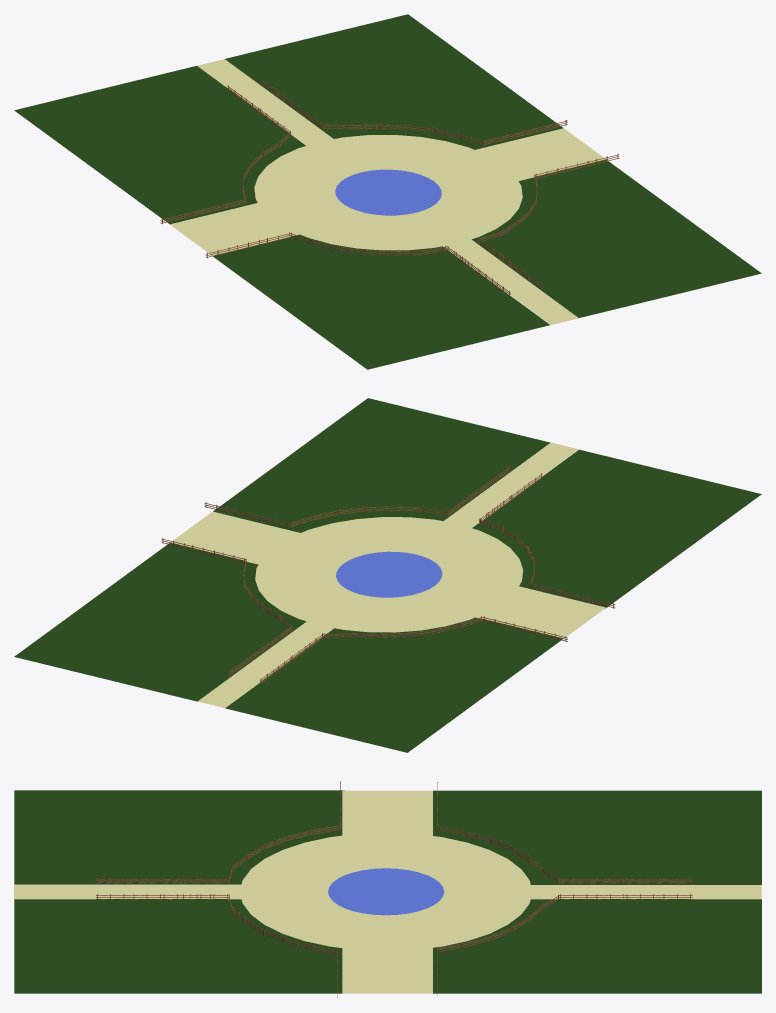
Rendered from park_terrain_1.fbx.
3 views of the same model, one above another, from view 1: azimuth 30°, elevation 25°; view 2: azimuth 150°, elevation 25°; view 3: azimuth 270°, elevation 25° (orthographic). The views are drawn at different scales.
Parts seen in each view (by area): view 1: Plano.010, Plano.011, Plano.009, Plano.008, Círculo.001, Círculo.003, Plano.006, Plano.007, Plano.003, Plano.005; view 2: Plano.010, Plano.011, Plano.008, Plano.009, Círculo.001, Círculo.003, Plano.006, Plano.007, Plano.003, Plano.005; view 3: Plano.010, Plano.011, Plano.008, Plano.009, Círculo.001, Círculo.003, Plano.006, Plano.007, Plano.003, Plano.005.
Boxes of the visible parts, <box> form: Plano.010: <box>225,14,563,149</box>; Plano.011: <box>14,66,305,224</box>; Plano.009: <box>211,234,549,369</box>; Plano.008: <box>471,160,761,317</box>; Círculo.001: <box>254,135,522,250</box>; Círculo.003: <box>335,169,441,215</box>; Plano.006: <box>475,128,605,180</box>; Plano.007: <box>170,203,299,255</box>; Plano.003: <box>197,59,333,145</box>; Plano.005: <box>443,239,578,324</box>; Plano.010: <box>14,543,306,701</box>; Plano.011: <box>225,617,562,752</box>; Plano.008: <box>213,398,550,532</box>; Plano.009: <box>472,449,761,608</box>; Círculo.001: <box>255,517,523,632</box>; Círculo.003: <box>336,551,442,597</box>; Plano.006: <box>170,511,299,564</box>; Plano.007: <box>475,586,605,638</box>; Plano.003: <box>197,621,333,707</box>; Plano.005: <box>444,442,578,527</box>; Plano.010: <box>433,899,761,993</box>; Plano.011: <box>433,790,761,884</box>; Plano.008: <box>14,899,342,993</box>; Plano.009: <box>14,790,344,884</box>; Círculo.001: <box>240,832,532,950</box>; Círculo.003: <box>328,868,444,915</box>; Plano.006: <box>342,948,432,993</box>; Plano.007: <box>342,790,432,835</box>; Plano.003: <box>531,885,761,899</box>; Plano.005: <box>14,885,241,899</box>.
Size of what is drawn, in the model's own units: 8371 by 109 by 12458.
Materials: 43 (38 with a texture image).
